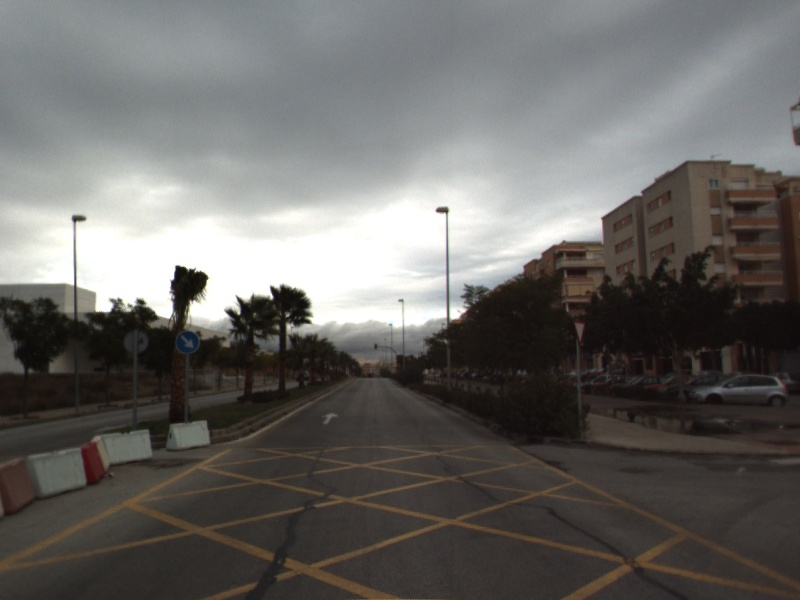STRAIGHT: (320, 411, 341, 426)
